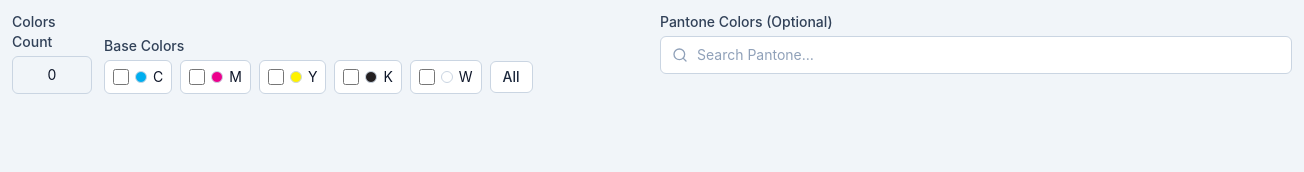
Test: ColorPicker › derives the colors count and supports the All control
Check: the field labelled "Colors Count" holds "0", box [12, 56, 92, 94]
Click the checkbox labelled "C": click(121, 77) [113, 69, 129, 85]
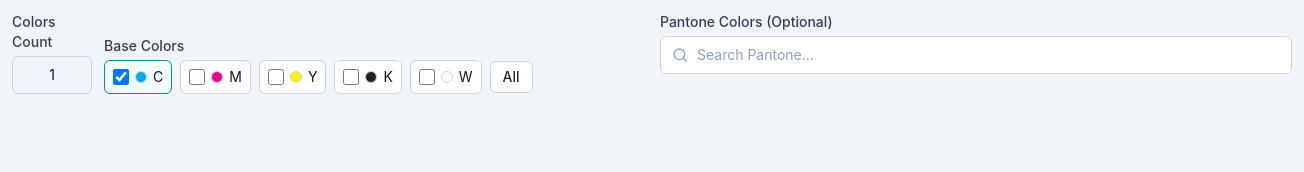
Click the checkbox labelled "K": click(351, 77) [343, 69, 359, 85]
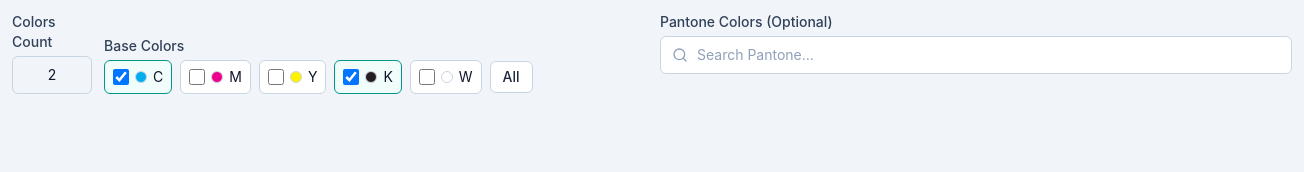
Check: the field labelled "Colors Count" holds "2", box [12, 56, 92, 94]
Click the button "All": click(511, 77) [490, 61, 533, 93]
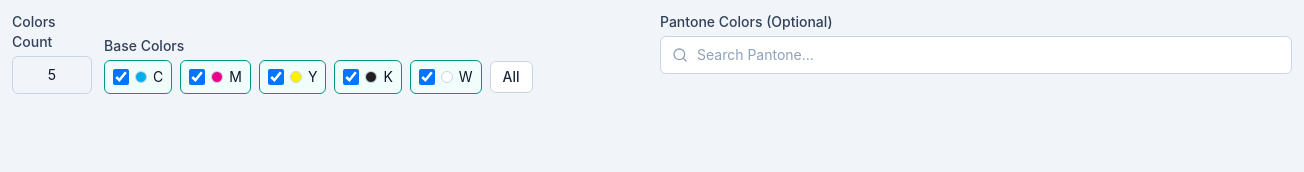
Check: the field labelled "Colors Count" holds "5", box [12, 56, 92, 94]
Click the button "All": click(511, 77) [490, 61, 533, 93]
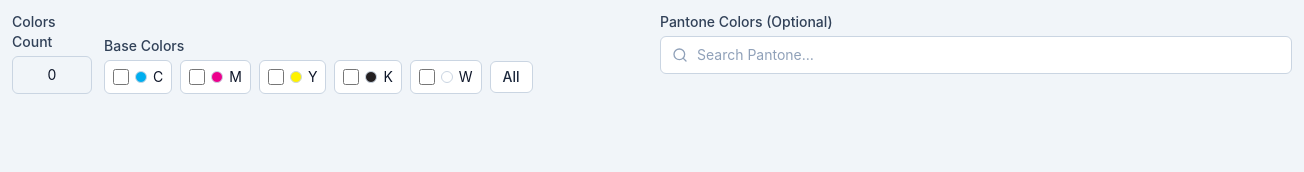
Check: the field labelled "Colors Count" holds "0", box [12, 56, 92, 94]
